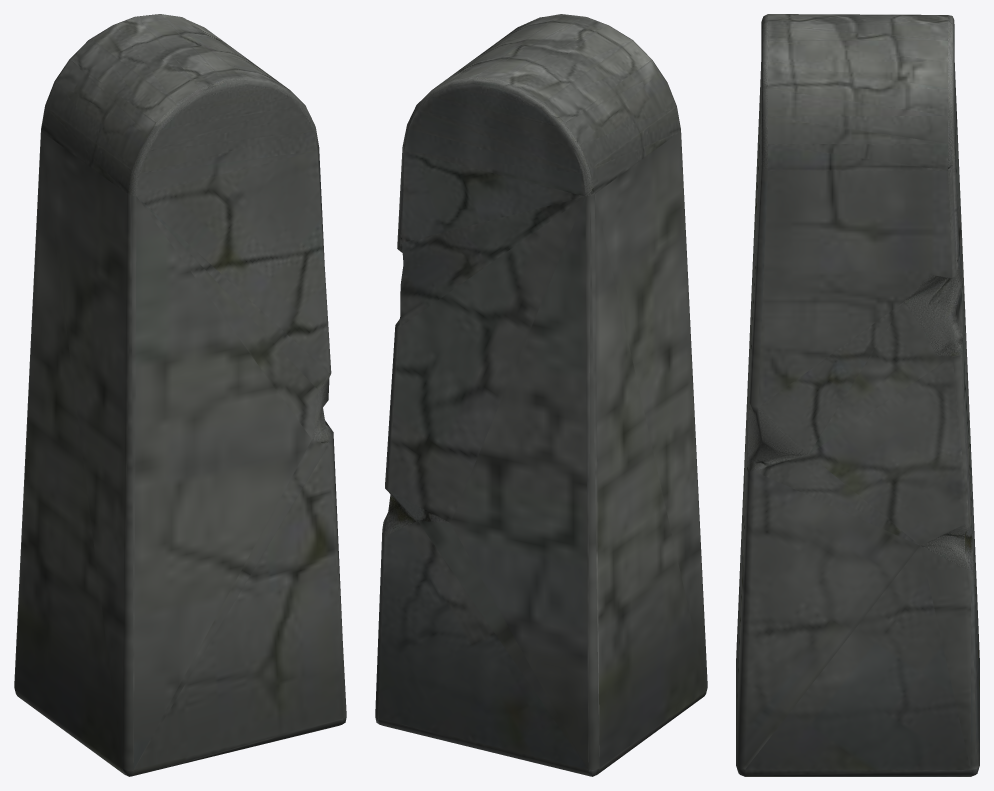
The model's file is world-milestone.glb.
3 views of the same model, side by side, from view 1: azimuth 30°, elevation 25°; view 2: azimuth 150°, elevation 25°; view 3: azimuth 270°, elevation 25° (orthographic). The views are drawn at different scales.
Bounding box in the file's own units: 0.3525 × 1 × 0.3166.
1 material, 1 textured.
